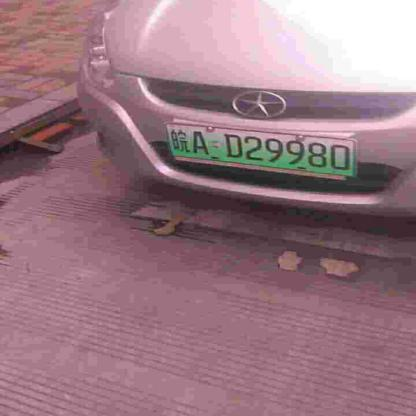lp: (166, 124, 356, 178)
